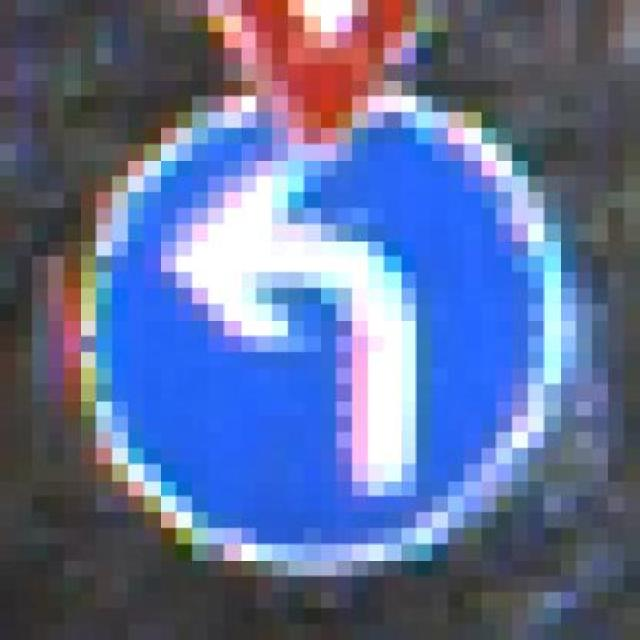Turn left ahead: (64, 95, 576, 592)
